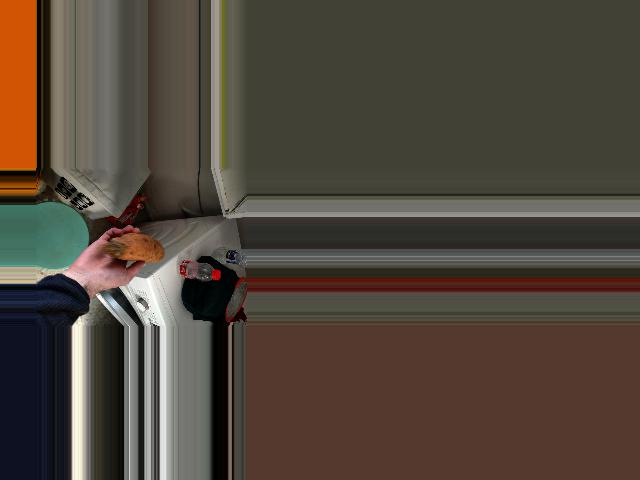sweet_potato: (110, 235, 178, 261)
